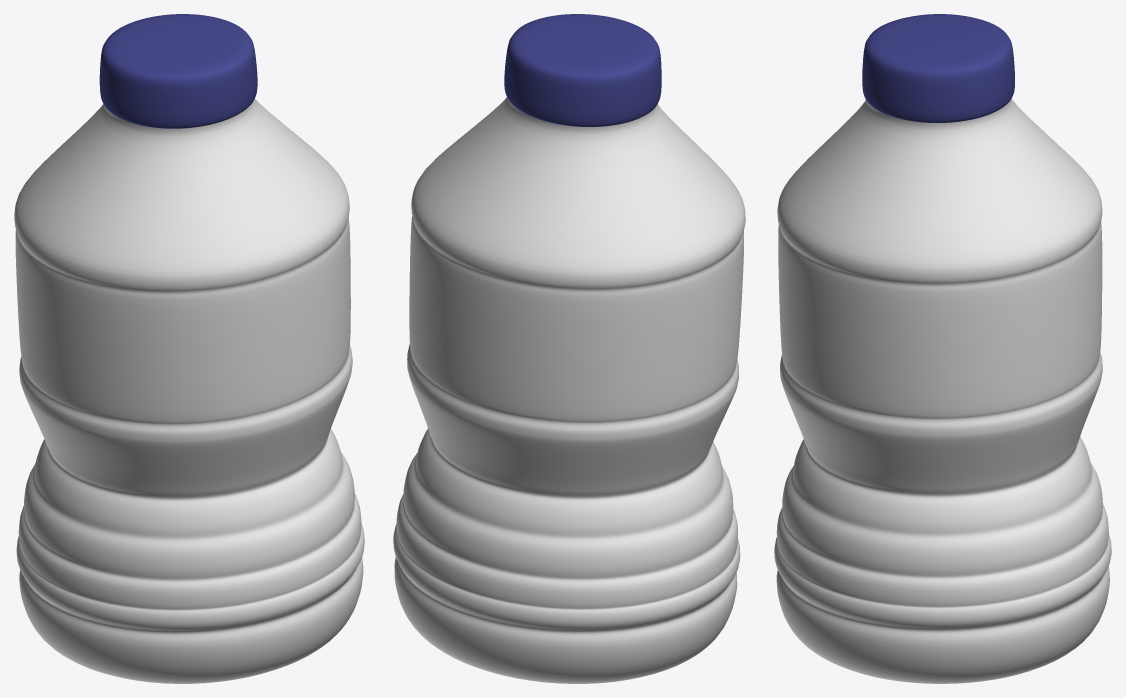
The model's file is Botella.fbx.
3 renders of one model, left to right at view 1: azimuth 30°, elevation 25°; view 2: azimuth 150°, elevation 25°; view 3: azimuth 270°, elevation 25°, orthographic.
Parts seen in each view (by area): view 1: Plane.008, Plane.009; view 2: Plane.008, Plane.009; view 3: Plane.008, Plane.009.
Boxes of the visible parts, x1,y1,x2,y2 form: Plane.008: (14, 99, 364, 683); Plane.009: (99, 14, 257, 128); Plane.008: (393, 97, 745, 683); Plane.009: (504, 14, 661, 126); Plane.008: (774, 98, 1111, 683); Plane.009: (862, 14, 1014, 122).
Bounding box in the file's own units: 58.2 × 108 × 55.69.
